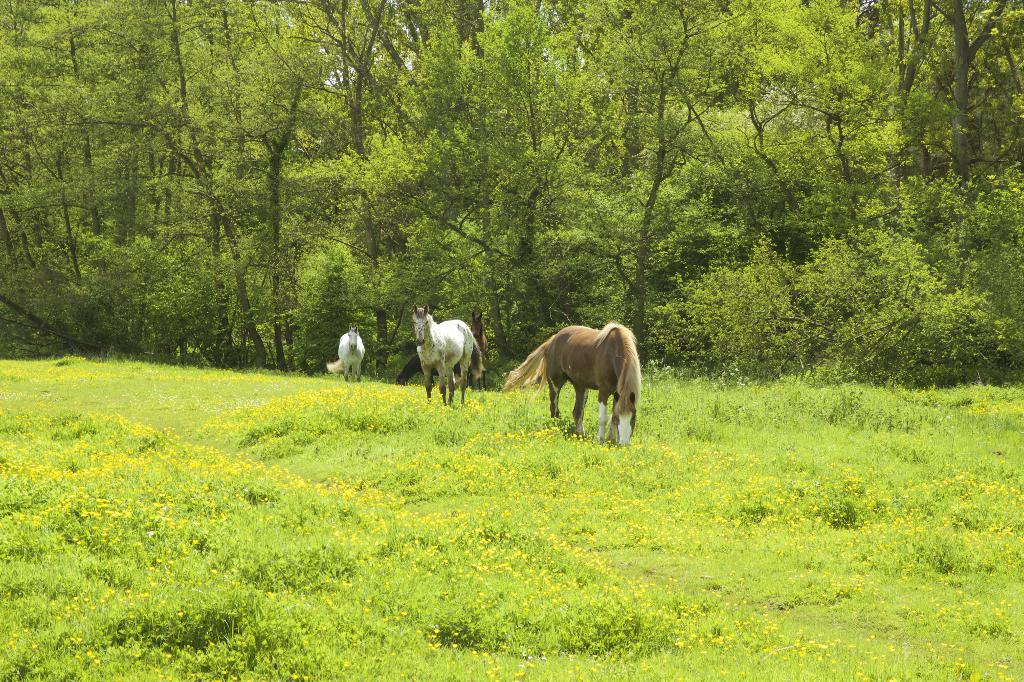horse: (410, 303, 483, 408), (325, 326, 366, 387)
